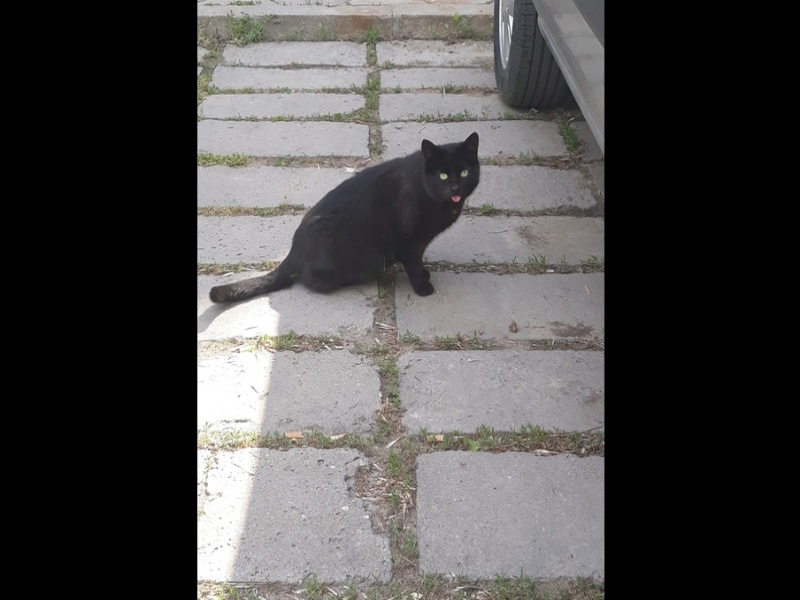cat: (209, 130, 483, 311)
